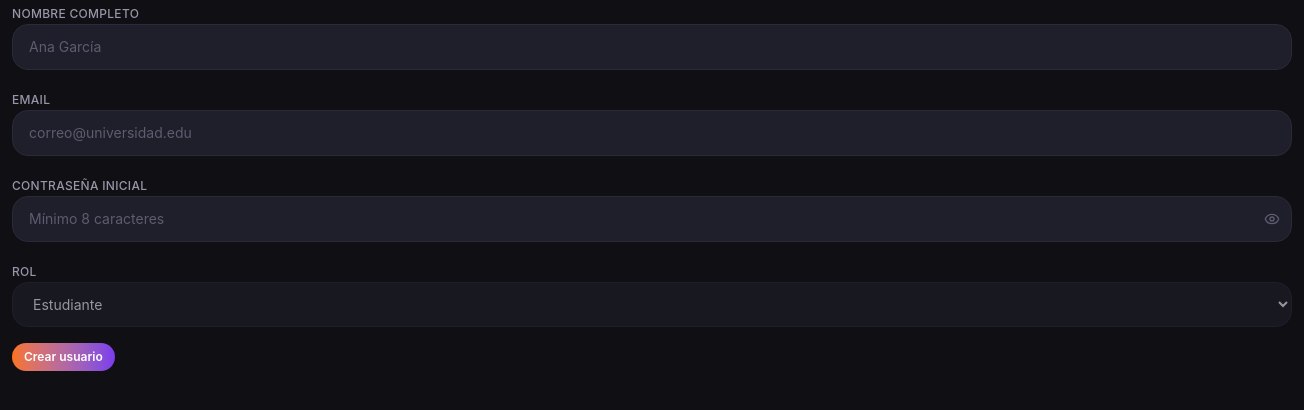
Test: CreateUserForm › email duplicado → error en el campo email, sin toast genérico
In the field labelled "Nombre completo": (652, 47) [12,24,1292,70], type "Nuevo Usuario"
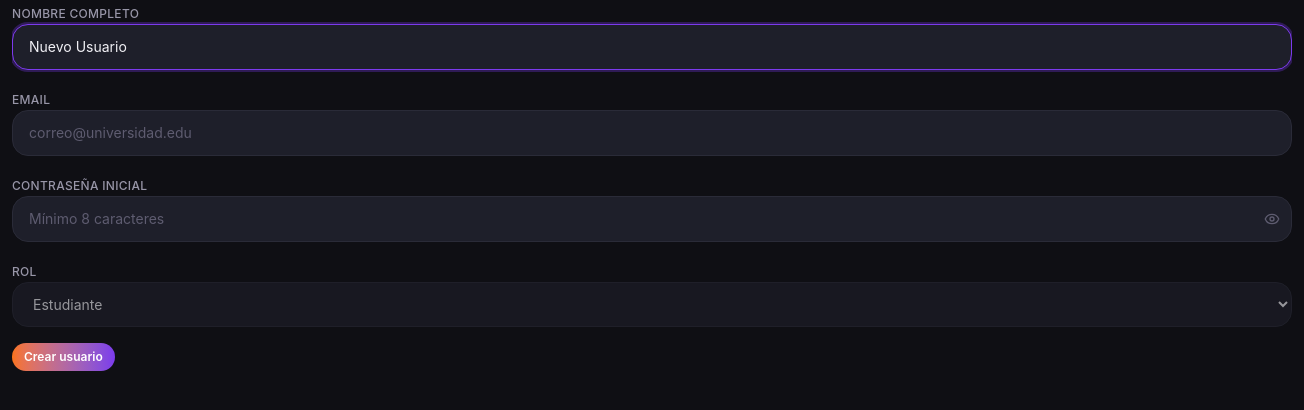
In the field labelled "Email": (652, 133) [12,110,1292,156], type "nuevo@x.com"
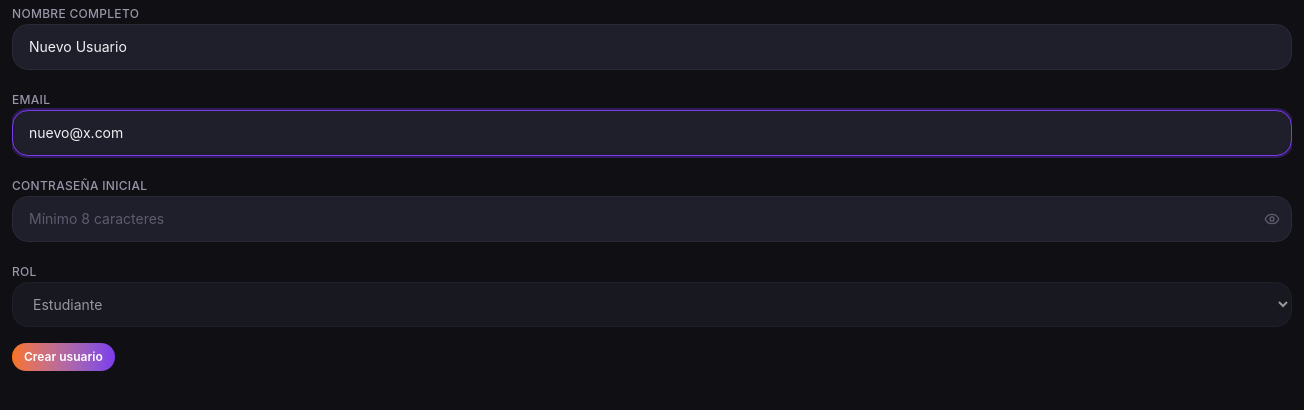
In the password field labelled "Contraseña inicial": (652, 219) [12,196,1292,242], type "password123"
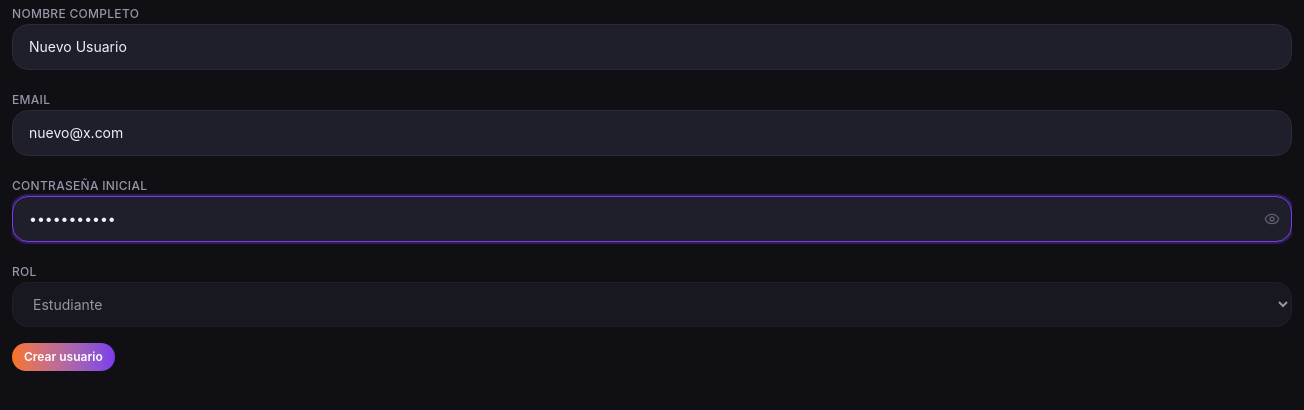
Click the button "Crear usuario": (63, 357) [12,343,115,371]
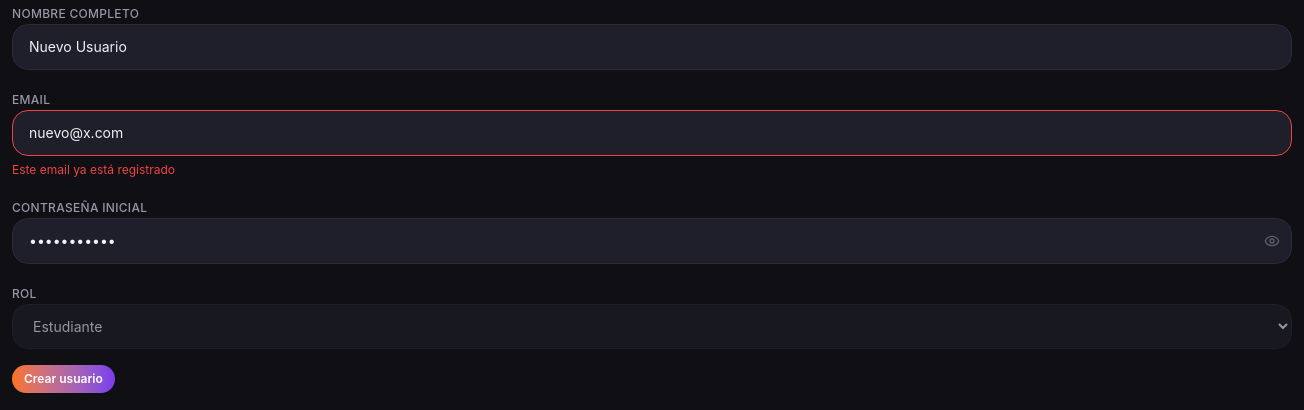
Result: the text "Este email ya está registrado" is shown at [12,162,175,177]
